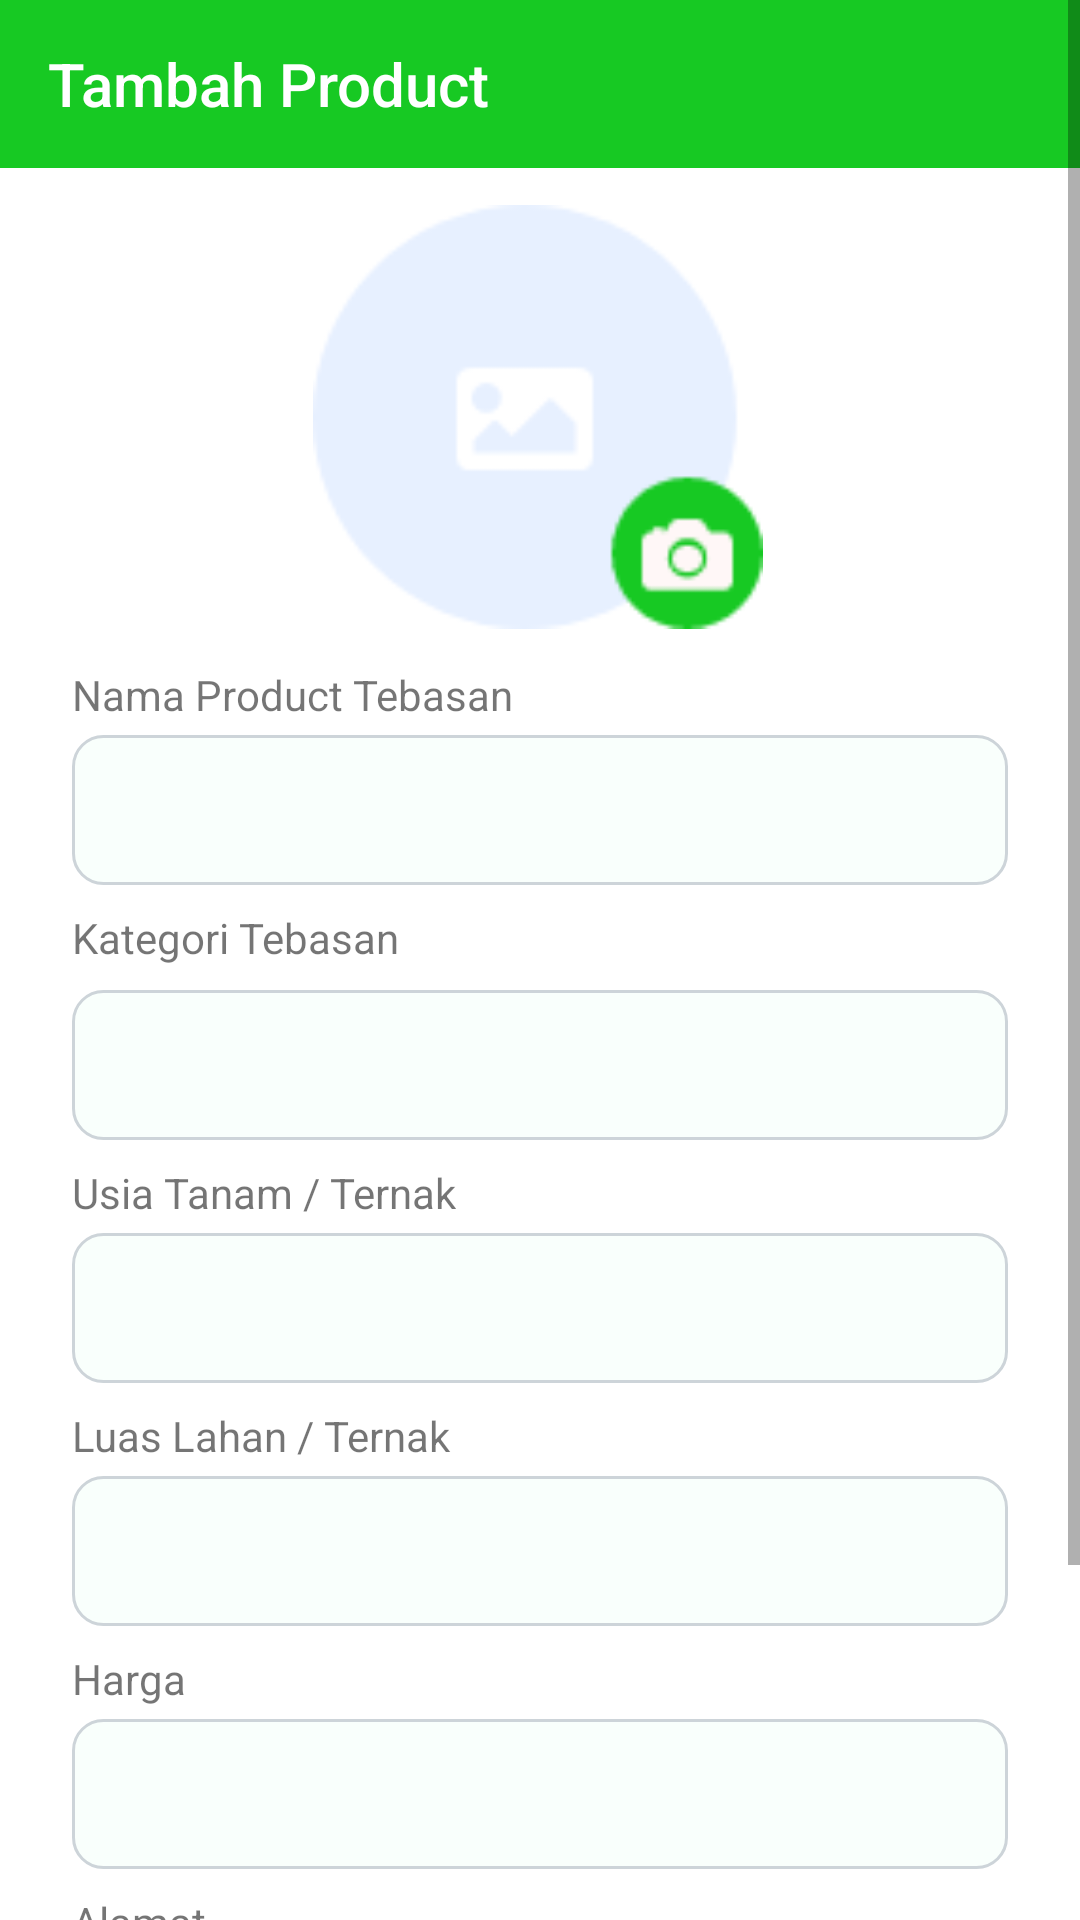

Locate icon controls on the screen. Image size 1080 × 1920, boxes as (x1, y1, x2, y2).
add photo: (610, 476, 763, 629)
